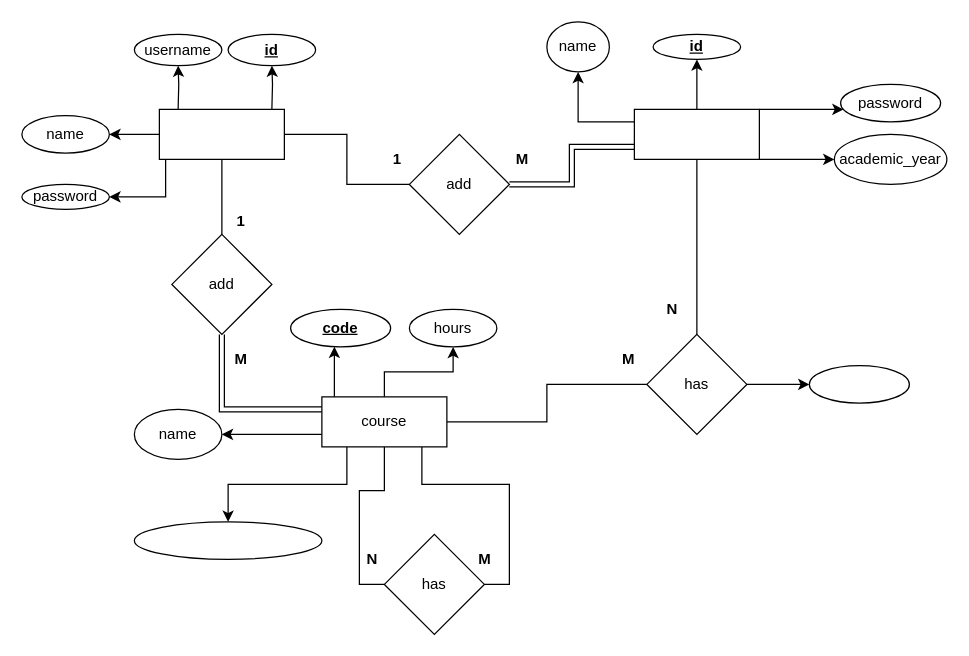
The diagram is 969 pixels wide and 656 high, and some of its shapes have lost their labels. Here are the shapes that lost their labels. From the top down, the centre of each, then its label:
At (x=221, y=133): "admin".
At (x=696, y=133): "student".
At (x=858, y=383): "status".
At (x=227, y=540): "max_number_of_students".
